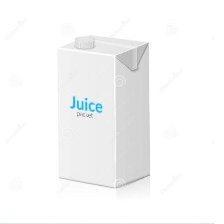carton: (52, 27, 154, 192)
